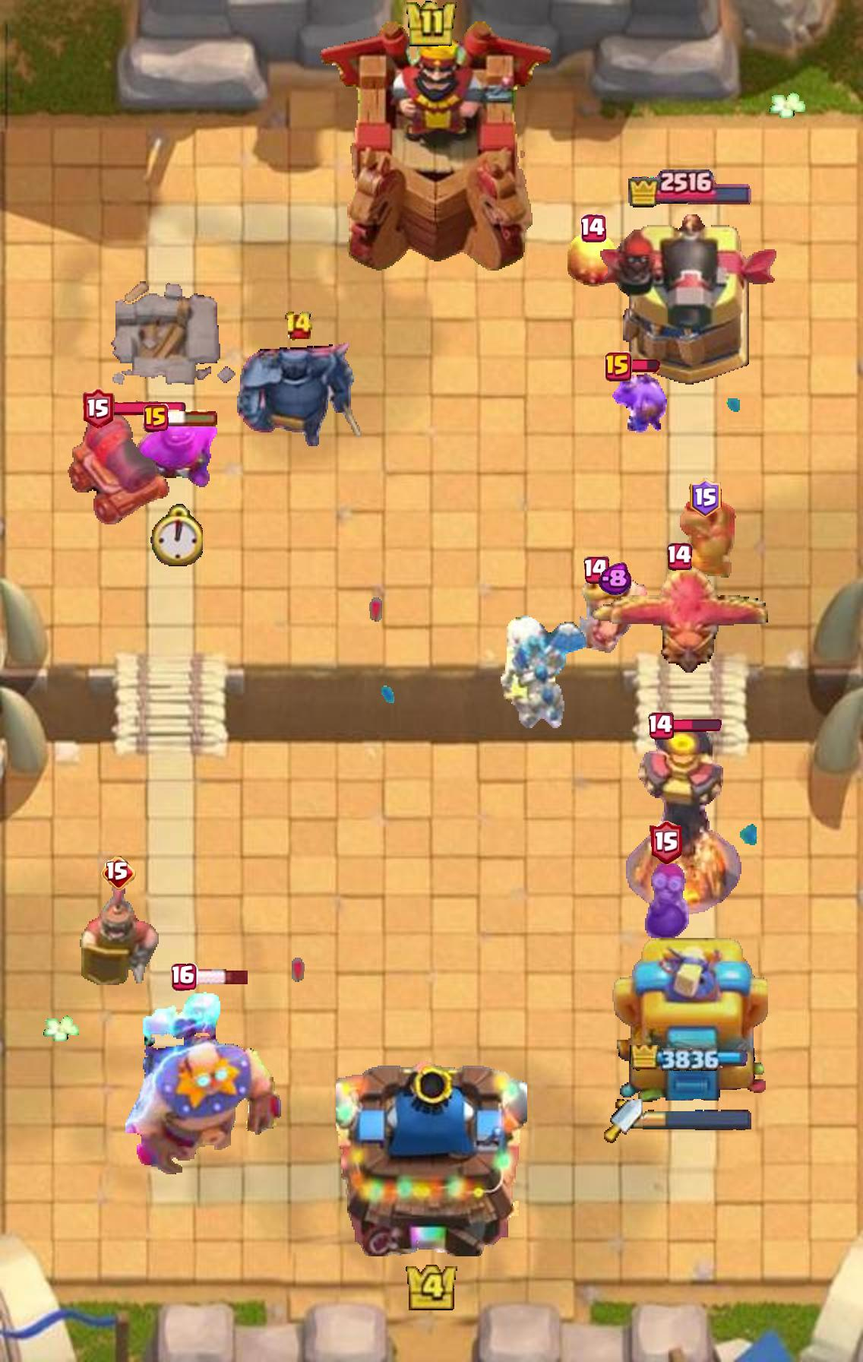elixir: (598, 562, 631, 596)
